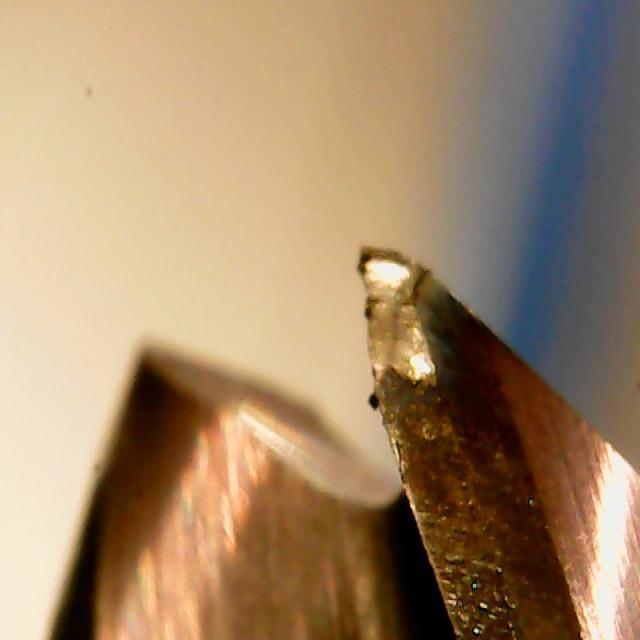Tool-wear-class-2: (332, 236, 516, 590)
